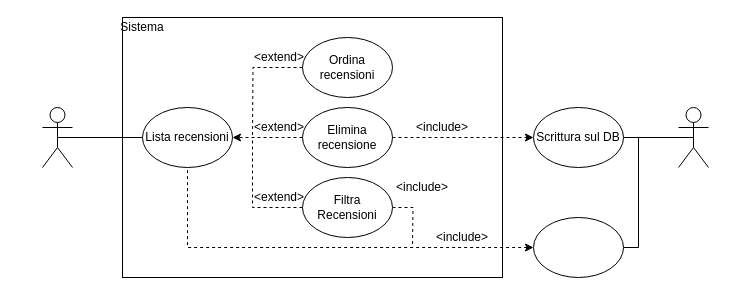
The diagram is 734 pixels wide and 295 high, and some of its shapes have lost their labels. Each missing label, with the centre of its shape:
"Amministratore" belongs at (57,137).
"Lettura dal DB" belongs at (578,247).
"MariaDB" belongs at (693,137).
